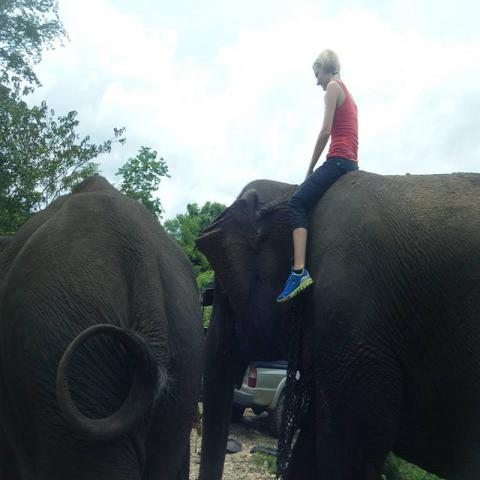truck: (232, 360, 288, 436)
